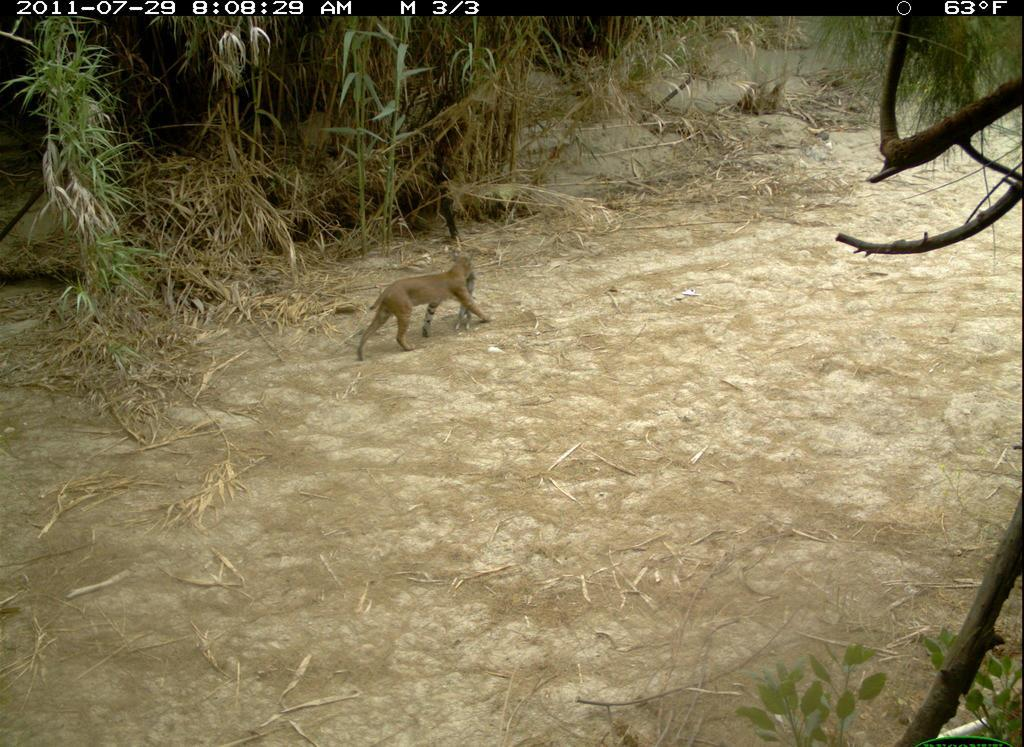bobcat: (353, 257, 495, 366)
rabbit: (455, 269, 479, 336)
